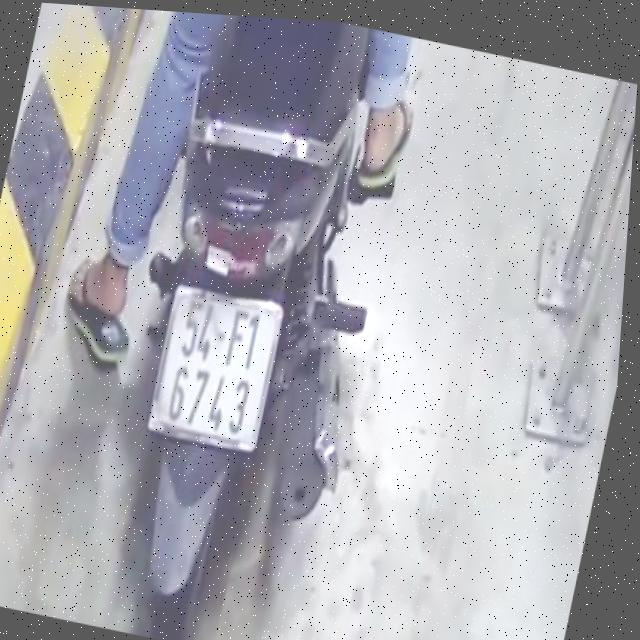motorcycle: (70, 39, 433, 640)
plate: (136, 277, 300, 466)
